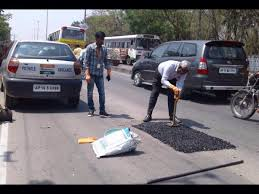pothole: (139, 121, 241, 155)
